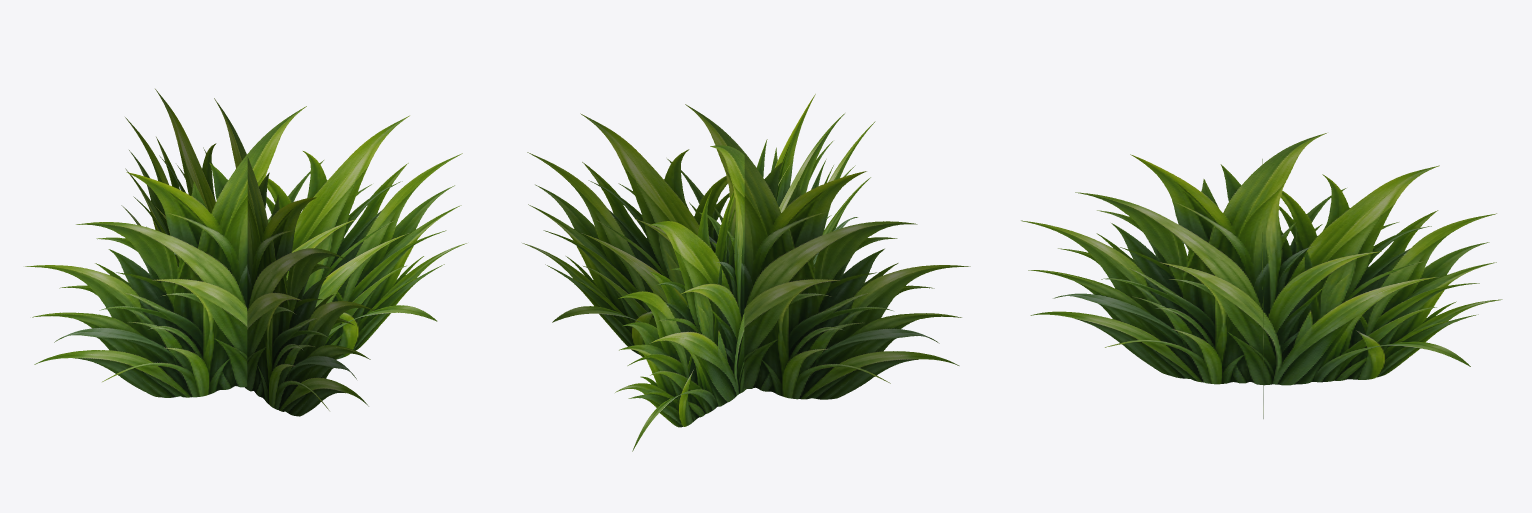
File: gras.glb
3 views of the same model, side by side, from view 1: azimuth 30°, elevation 25°; view 2: azimuth 150°, elevation 25°; view 3: azimuth 270°, elevation 25° (orthographic). The views are drawn at different scales.
Visible parts, largest first — view 1: Merged_static_1; view 2: Merged_static_1; view 3: Merged_static_1.
Part boxes in pixels (bbox=[...]): Merged_static_1: bbox=[25, 89, 466, 416]; Merged_static_1: bbox=[522, 94, 970, 451]; Merged_static_1: bbox=[1021, 133, 1502, 418].
Size of the model in its own units: 1.7 by 1.01 by 1.71.
1 material, 1 textured.
